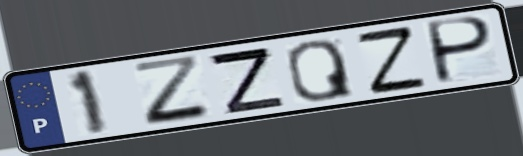1: (65, 67, 113, 138)
P: (426, 15, 497, 87)
Q: (284, 37, 358, 103)
Z: (129, 52, 217, 129), (204, 45, 289, 116), (352, 23, 430, 97)
